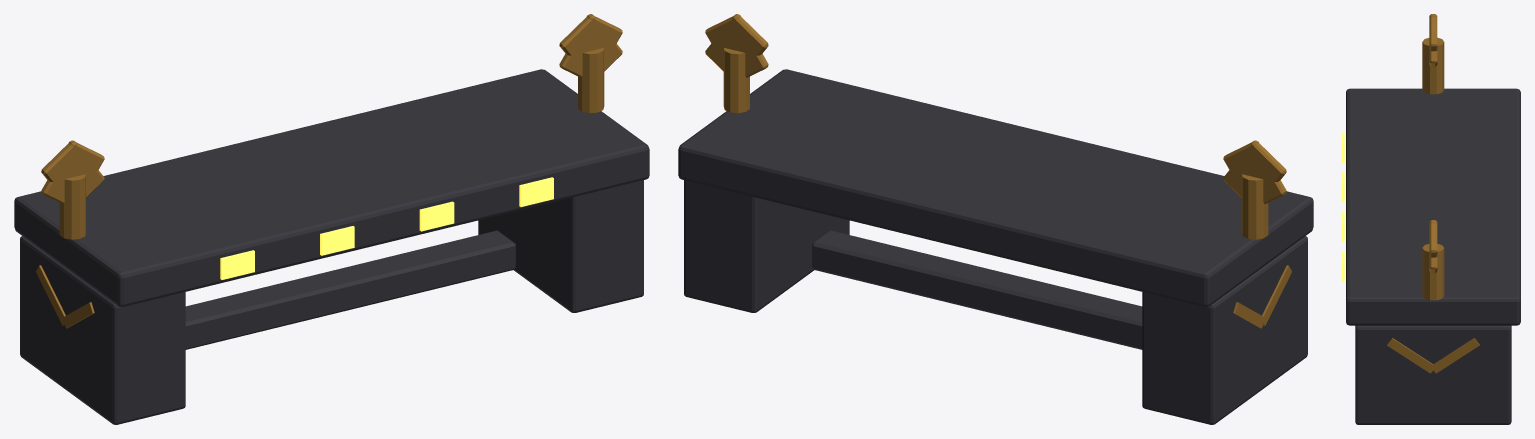
The model's file is SM_Furn_MeadBench_08.fbx.
3 views of the same model, side by side, from view 1: azimuth 30°, elevation 25°; view 2: azimuth 150°, elevation 25°; view 3: azimuth 270°, elevation 25° (orthographic). The views are drawn at different scales.
Visible parts, largest first — view 1: SM_Furn_MeadBench_08_Slab, SM_Furn_MeadBench_08_SupportL, SM_Furn_MeadBench_08_Stretcher, SM_Furn_MeadBench_08_SupportR, SM_Furn_MeadBench_08_AxeWingLBot, SM_Furn_MeadBench_08_ArmPostR, SM_Furn_MeadBench_08_ArmPostL, SM_Furn_MeadBench_08_AxeWingRTop, SM_Furn_MeadBench_08_AxeWingRBot, SM_Furn_MeadBench_08_AxeWingLTop, SM_Furn_MeadBench_08_RunePlate2, SM_Furn_MeadBench_08_RunePlate0 (+2 smaller); view 2: SM_Furn_MeadBench_08_Slab, SM_Furn_MeadBench_08_SupportL, SM_Furn_MeadBench_08_Stretcher, SM_Furn_MeadBench_08_SupportR, SM_Furn_MeadBench_08_AxeWingRBot, SM_Furn_MeadBench_08_AxeWingLBot, SM_Furn_MeadBench_08_ArmPostR, SM_Furn_MeadBench_08_ArmPostL, SM_Furn_MeadBench_08_AxeWingRTop, SM_Furn_MeadBench_08_AxeWingLTop; view 3: SM_Furn_MeadBench_08_Slab, SM_Furn_MeadBench_08_SupportR, SM_Furn_MeadBench_08_ArmPostR, SM_Furn_MeadBench_08_ArmPostL, SM_Furn_MeadBench_08_ChevronR_L, SM_Furn_MeadBench_08_ChevronR_R, SM_Furn_MeadBench_08_AxeWingRTop, SM_Furn_MeadBench_08_AxeWingLTop.
Boxes of the visible parts, x1,y1,x2,y2 form: SM_Furn_MeadBench_08_Slab: (14,69,649,306); SM_Furn_MeadBench_08_SupportL: (20,236,185,424); SM_Furn_MeadBench_08_Stretcher: (185,230,515,349); SM_Furn_MeadBench_08_SupportR: (478,180,643,312); SM_Furn_MeadBench_08_AxeWingLBot: (41,140,104,197); SM_Furn_MeadBench_08_ArmPostR: (578,48,604,113); SM_Furn_MeadBench_08_ArmPostL: (59,174,85,239); SM_Furn_MeadBench_08_AxeWingRTop: (559,14,622,77); SM_Furn_MeadBench_08_AxeWingRBot: (559,14,622,71); SM_Furn_MeadBench_08_AxeWingLTop: (41,140,104,203); SM_Furn_MeadBench_08_RunePlate2: (419,201,454,231); SM_Furn_MeadBench_08_RunePlate0: (220,250,254,279); SM_Furn_MeadBench_08_Slab: (678,69,1313,306); SM_Furn_MeadBench_08_SupportL: (1142,236,1307,424); SM_Furn_MeadBench_08_Stretcher: (812,230,1142,349); SM_Furn_MeadBench_08_SupportR: (684,180,849,312); SM_Furn_MeadBench_08_AxeWingRBot: (705,14,768,71); SM_Furn_MeadBench_08_AxeWingLBot: (1223,140,1286,197); SM_Furn_MeadBench_08_ArmPostR: (723,48,749,113); SM_Furn_MeadBench_08_ArmPostL: (1242,174,1268,239); SM_Furn_MeadBench_08_AxeWingRTop: (705,14,768,77); SM_Furn_MeadBench_08_AxeWingLTop: (1223,140,1286,203); SM_Furn_MeadBench_08_Slab: (1346,88,1520,325); SM_Furn_MeadBench_08_SupportR: (1355,325,1511,424); SM_Furn_MeadBench_08_ArmPostR: (1422,244,1444,300); SM_Furn_MeadBench_08_ArmPostL: (1422,37,1444,94); SM_Furn_MeadBench_08_ChevronR_L: (1387,338,1435,373); SM_Furn_MeadBench_08_ChevronR_R: (1431,338,1479,373); SM_Furn_MeadBench_08_AxeWingRTop: (1429,220,1437,257); SM_Furn_MeadBench_08_AxeWingLTop: (1429,14,1437,51).
Size of the model in its own units: 1.74 by 0.7165 by 0.572.
